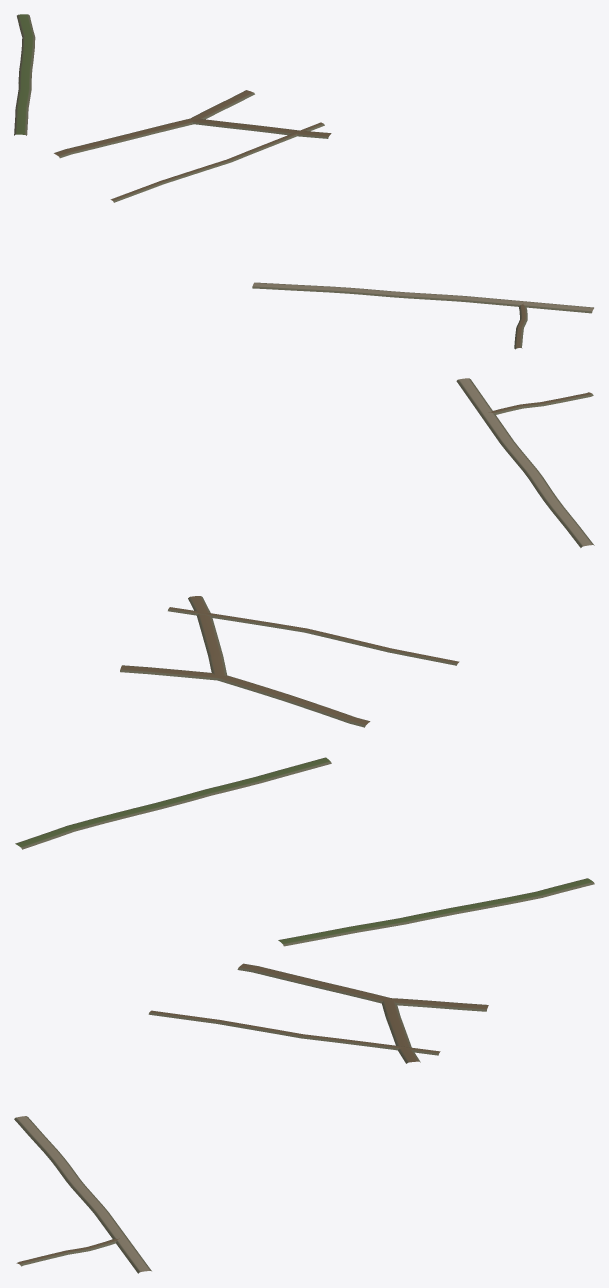
3 renders of one model, top to bottom at view 1: azimuth 30°, elevation 25°; view 2: azimuth 150°, elevation 25°; view 3: azimuth 330°, elevation 25°, orthographic. The views are drawn at different scales.
Visible parts, largest first — view 1: roads; view 2: roads; view 3: roads.
Part boxes in pixels (x1,y1,x2,y2): roads: (14,14,593,349); roads: (15,378,594,849); roads: (14,878,594,1273).
Size of the model in its own units: 112 by 15 by 397.
